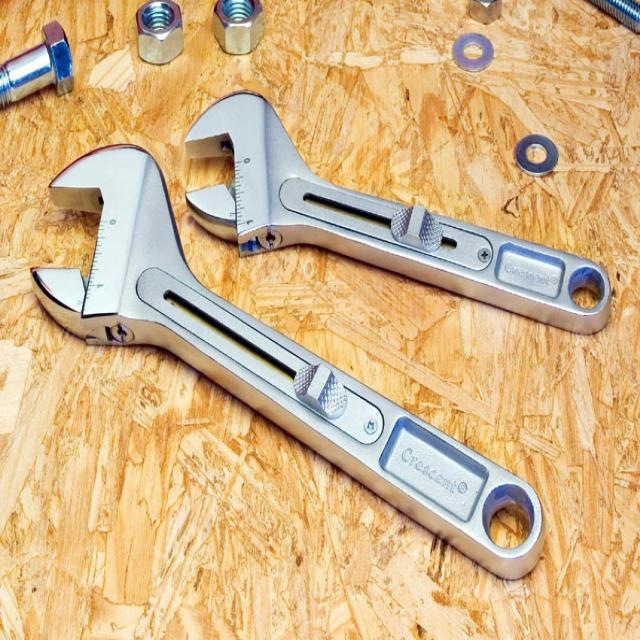wrench: (15, 107, 316, 450)
